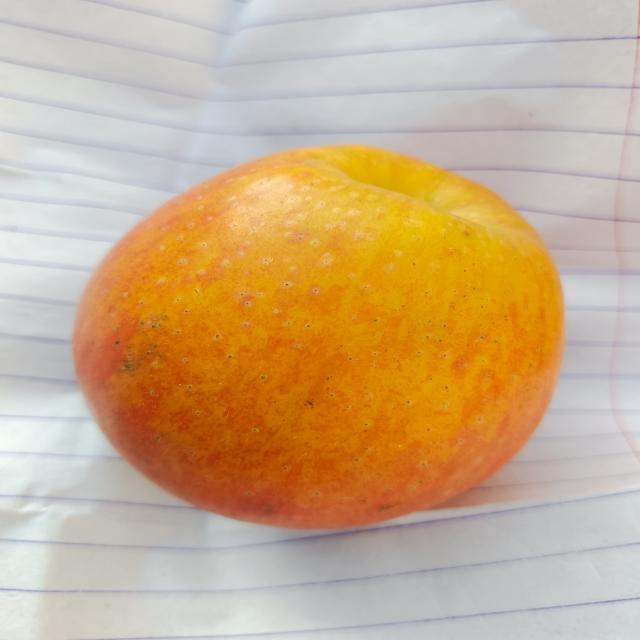Fresh Apple: (70, 147, 566, 532)
